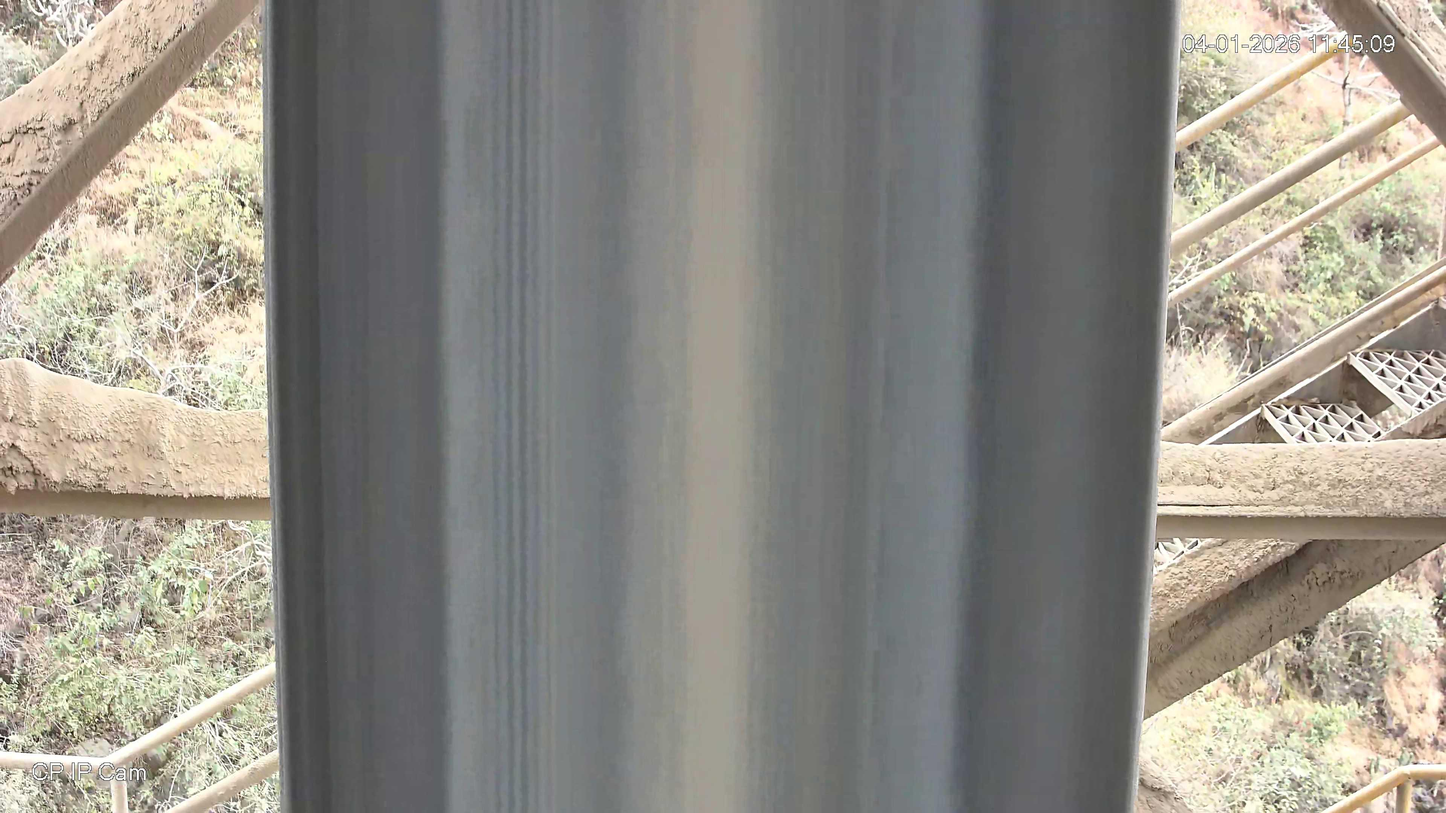belt_roi: (261, 0, 1181, 813)
